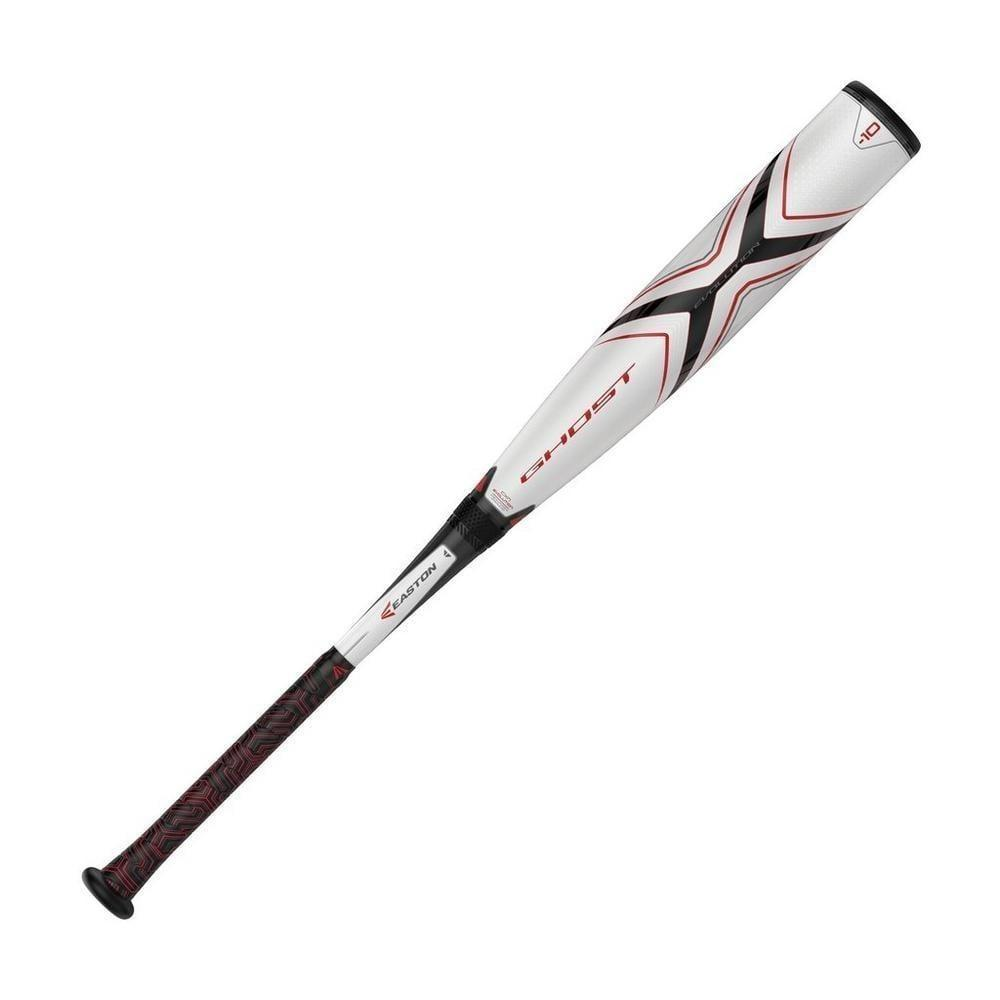Baseball-Bat: (130, 87, 970, 886)
